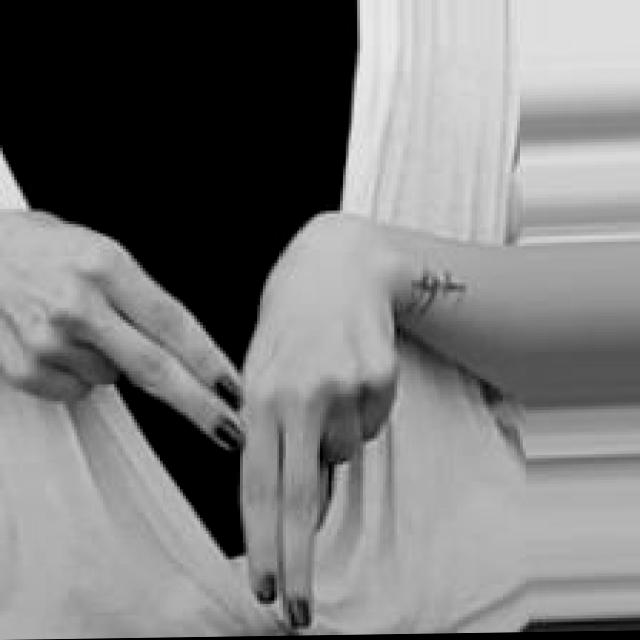K: (5, 209, 405, 639)
